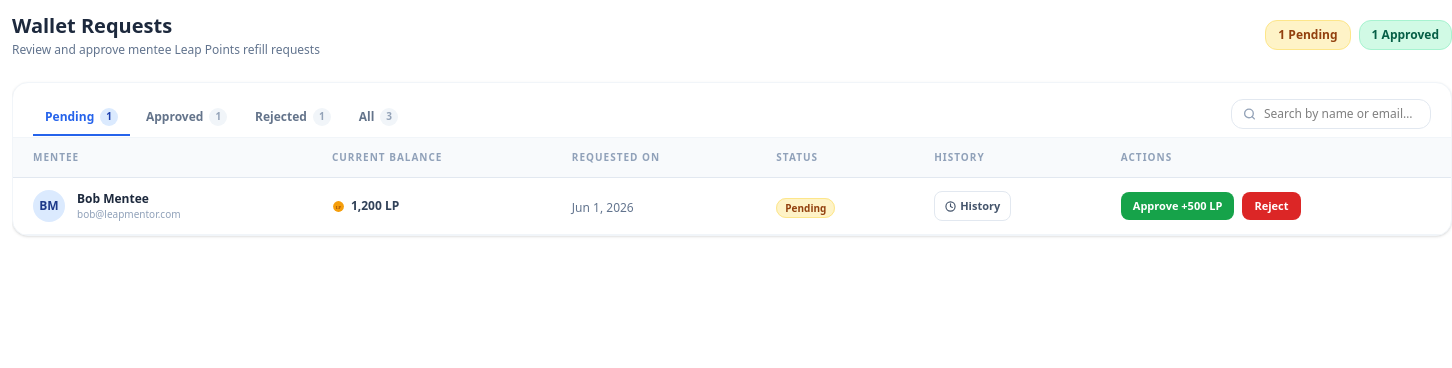
Test: AdminWalletRequests › filters by tab and by search text (name and email) and matches counts
This screenshot has width=1452, height=368.
Check: the text "Bob Mentee" is shown, box [77, 190, 149, 206]
Check: the text "1 Pending" is shown, box [1265, 20, 1351, 50]
Click the button "All 3" at [378, 118], box [347, 100, 410, 136]
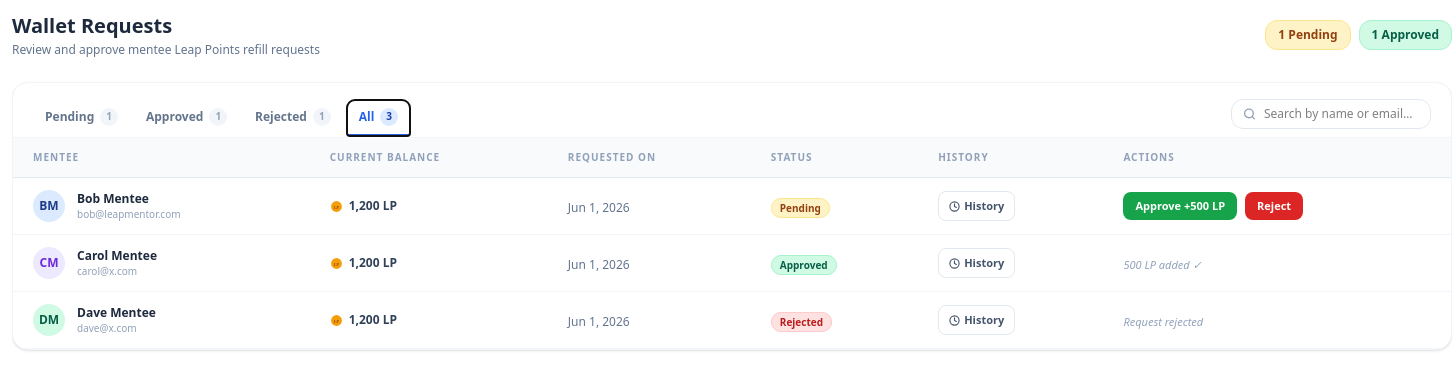
Check: the text "Bob Mentee" is shown, box [77, 190, 149, 206]
Check: the text "Carol Mentee" is shown, box [77, 248, 157, 264]
Check: the text "Dave Mentee" is shown, box [77, 304, 156, 320]
Type "carol@x.com" into the field with placeholder "Search by name or email…" at [1331, 114], box [1231, 99, 1431, 129]
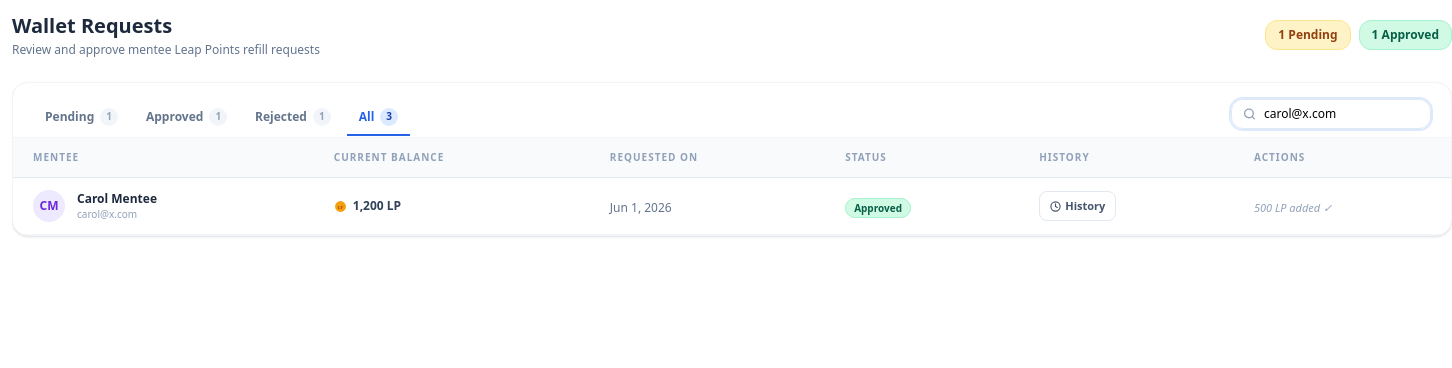
Check: the text "Carol Mentee" is shown, box [77, 190, 157, 206]
Check: the text "Bob Mentee" is gone
